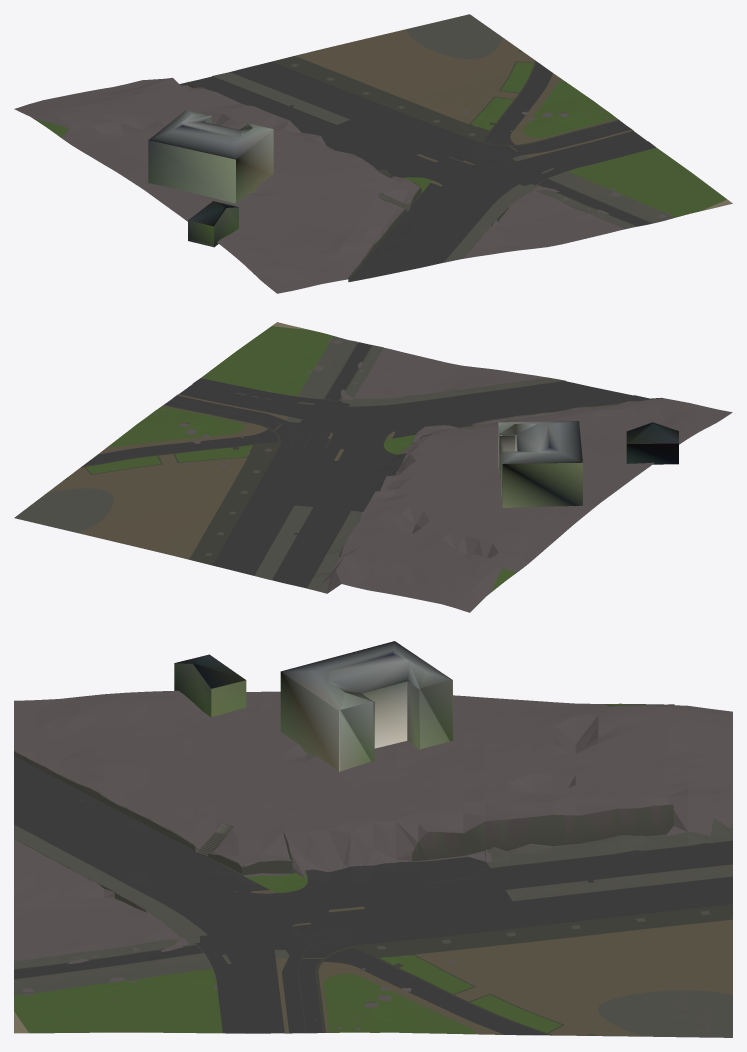
3 renders of one model, top to bottom at view 1: azimuth 30°, elevation 25°; view 2: azimuth 150°, elevation 25°; view 3: azimuth 270°, elevation 25°, orthographic. The views are drawn at different scales.
Visible parts, largest first — view 1: c_m08_m05; view 2: c_m08_m05; view 3: c_m08_m05.
Boxes of the visible parts, x1,y1,x2,y2 form: c_m08_m05: (14,14,732,293); c_m08_m05: (14,322,732,612); c_m08_m05: (14,641,732,1037).
Bounding box in the file's own units: 133 × 21.45 × 128.
